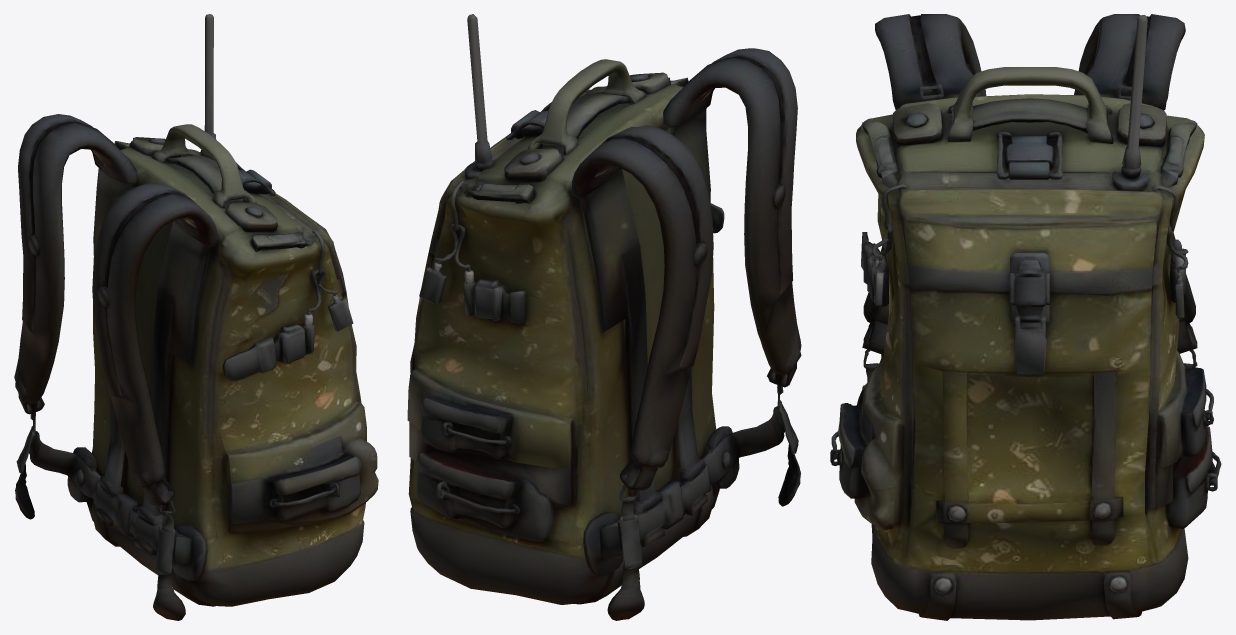
File: mer_radio_backpack_LOD0.glb
3 renders of one model, left to right at view 1: azimuth 30°, elevation 25°; view 2: azimuth 150°, elevation 25°; view 3: azimuth 270°, elevation 25°, orthographic. The views are drawn at different scales.
Parts seen in each view (by area): view 1: tripo_node_254d8034-fd76-4caa-8b75-29ac752a5a79; view 2: tripo_node_254d8034-fd76-4caa-8b75-29ac752a5a79; view 3: tripo_node_254d8034-fd76-4caa-8b75-29ac752a5a79.
Part boxes in pixels (x1,y1,x2,y2): tripo_node_254d8034-fd76-4caa-8b75-29ac752a5a79: (14,14,378,620); tripo_node_254d8034-fd76-4caa-8b75-29ac752a5a79: (407,14,801,620); tripo_node_254d8034-fd76-4caa-8b75-29ac752a5a79: (830,14,1221,620).
Bounding box in the file's own units: 0.541 × 0.998 × 0.5996.
1 material, 1 textured.
